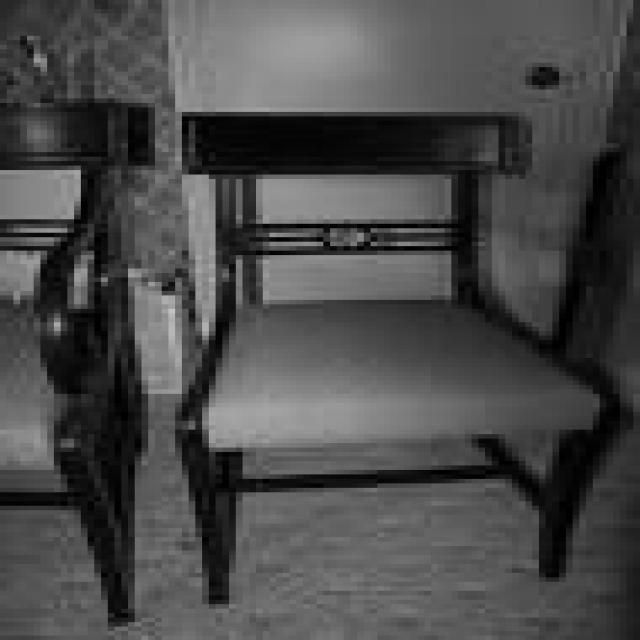chair: (175, 92, 630, 606)
